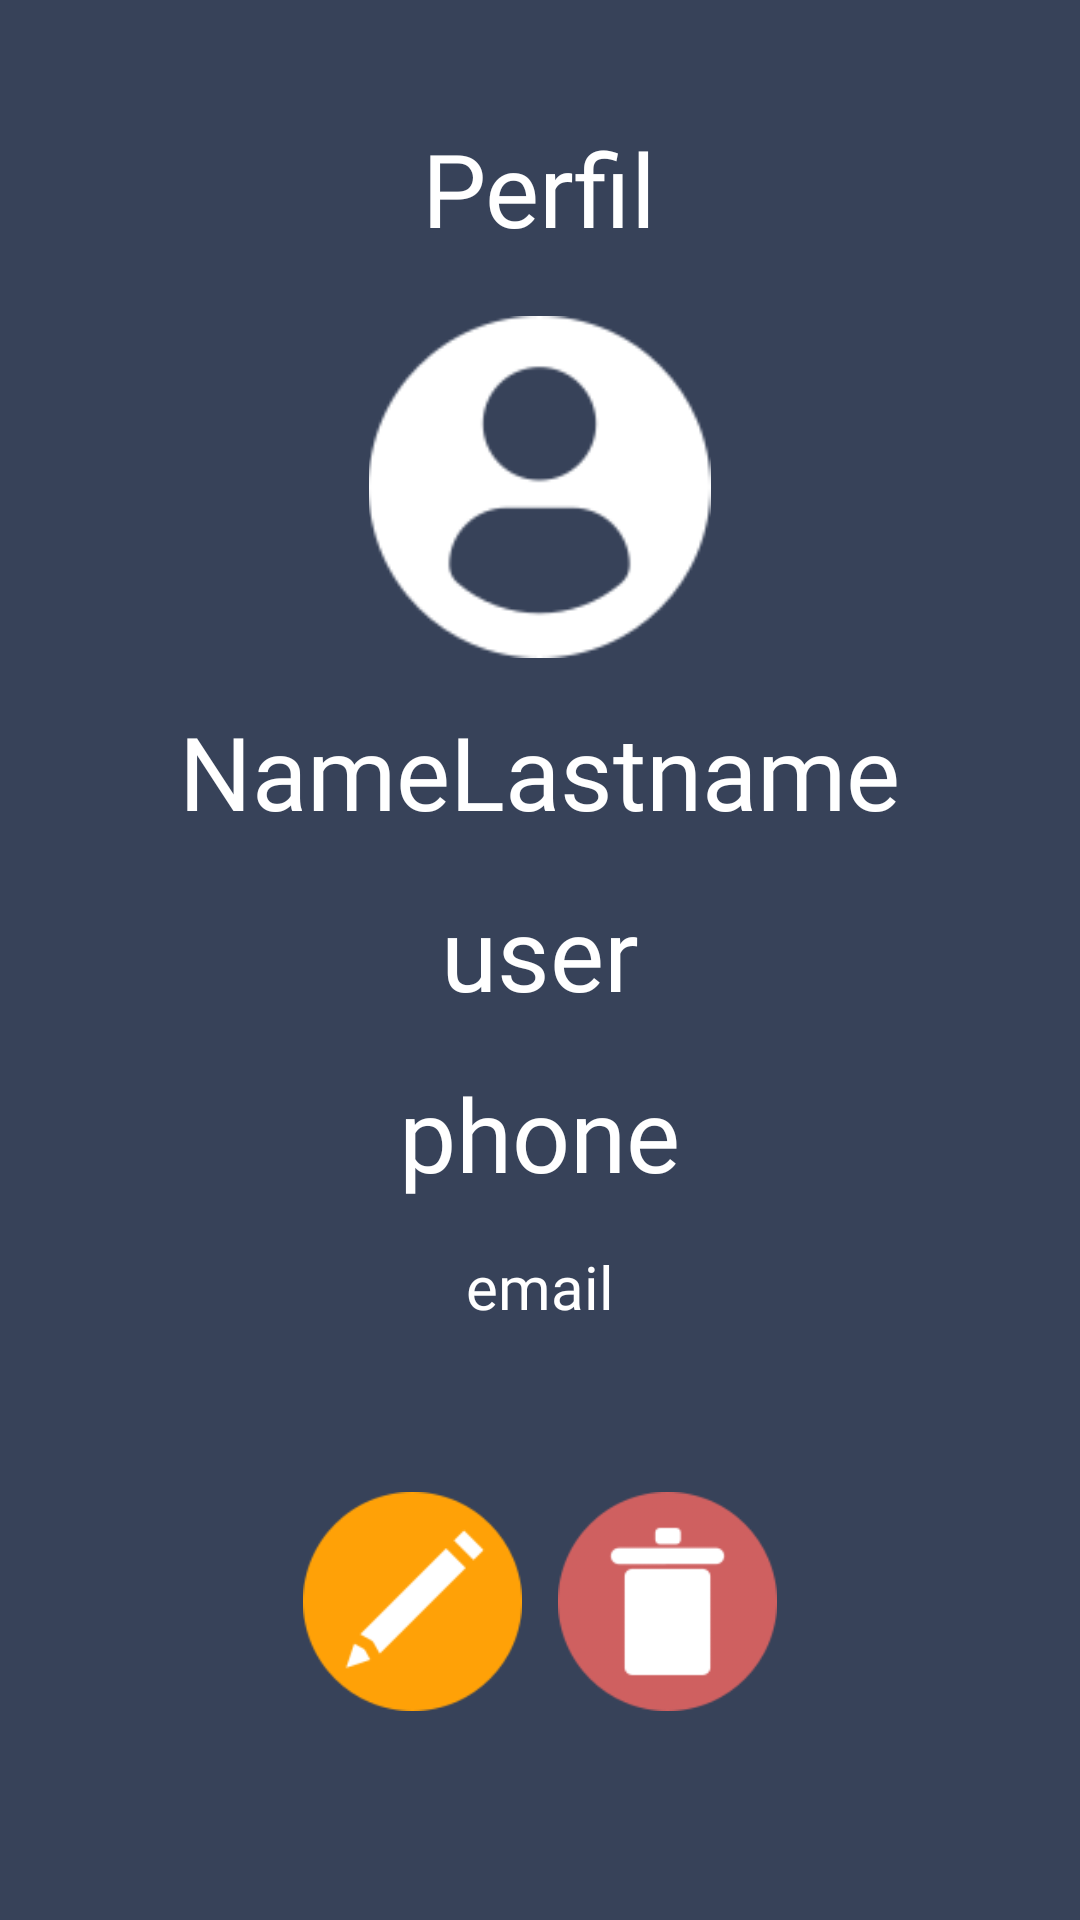

Point at icon controls on the screen. Image size 1080px×1920px, points as (x,y).
borrar: (667,1601)
editar: (412,1601)
user: (540,487)
